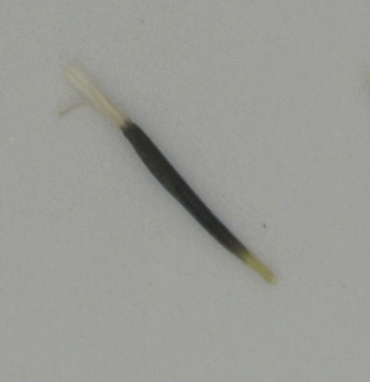เมล็ดดีเรียวยาว: (55, 62, 277, 287)
